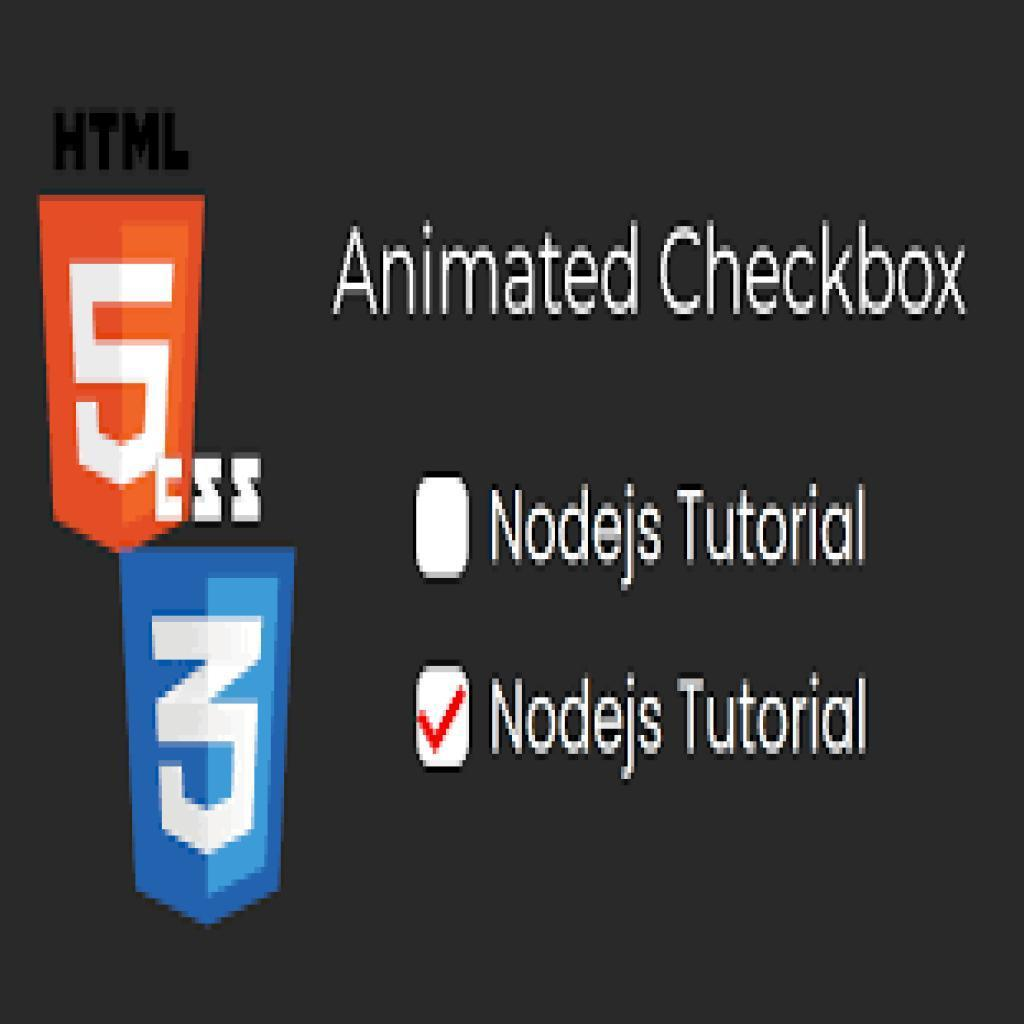checkbox: (417, 480, 472, 583), (418, 670, 472, 771)
label: (319, 222, 976, 338), (492, 677, 881, 770), (486, 484, 879, 575)
